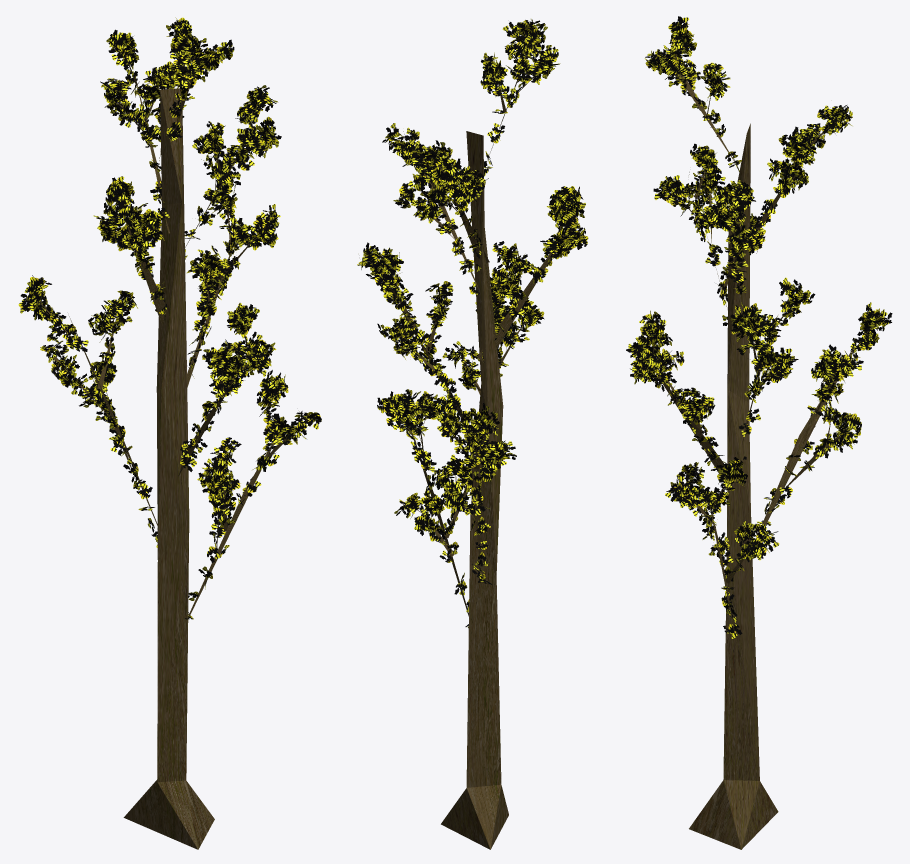
File: baldcypress_v03_LOD2.fbx
3 views of the same model, side by side, from view 1: azimuth 30°, elevation 25°; view 2: azimuth 150°, elevation 25°; view 3: azimuth 270°, elevation 25° (orthographic). The views are drawn at different scales.
Visible parts, largest first — view 1: baldcypress_v03_LOD2; view 2: baldcypress_v03_LOD2; view 3: baldcypress_v03_LOD2.
Boxes of the visible parts, x1=… form: baldcypress_v03_LOD2: x1=18, y1=17, x2=321, y2=849; baldcypress_v03_LOD2: x1=357, y1=19, x2=588, y2=849; baldcypress_v03_LOD2: x1=626, y1=16, x2=892, y2=849.
Size of the model in its own units: 863 by 978 by 3185.
2 materials, 2 textured.
